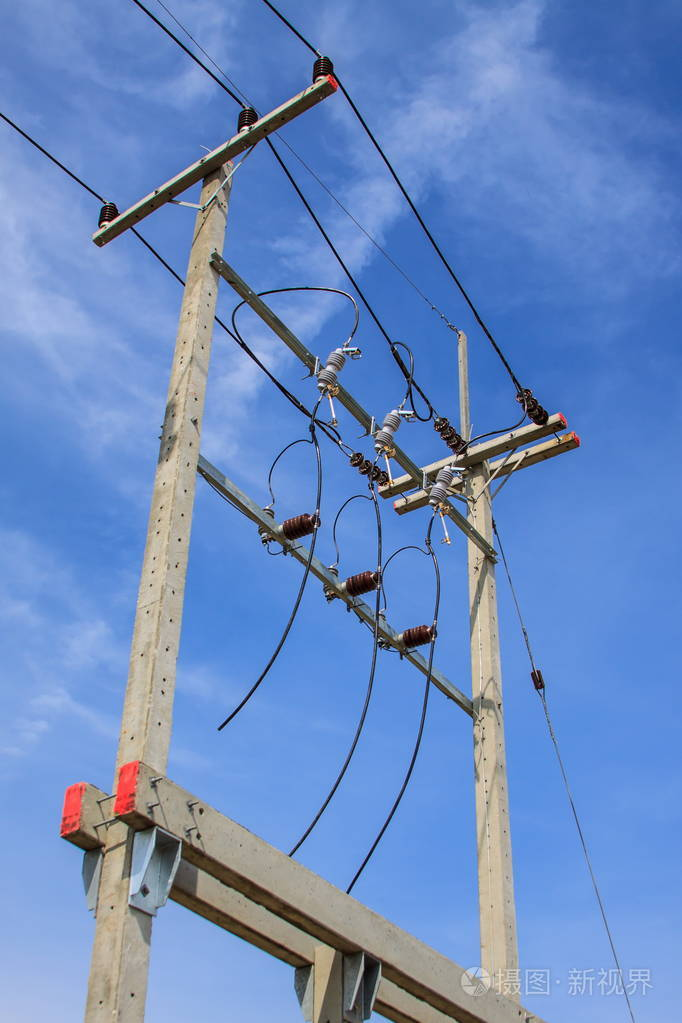insulator: (430, 414, 468, 457), (350, 451, 389, 488), (516, 388, 551, 425)
